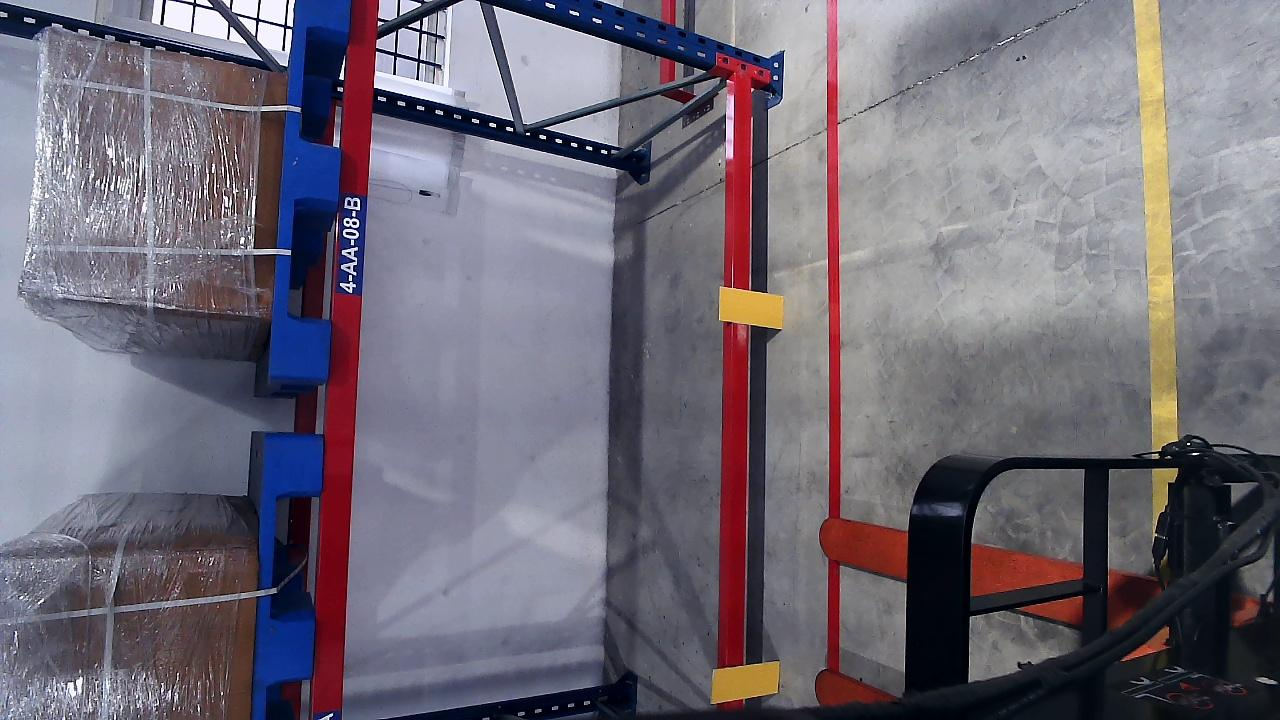h_rack: (311, 0, 380, 712), (719, 85, 758, 705)
orange_strip: (711, 660, 780, 702), (719, 285, 784, 328)
red_line: (817, 0, 845, 671)
small_pallet: (275, 0, 347, 379), (254, 435, 325, 713)
yellow_line: (1134, 0, 1181, 452)
